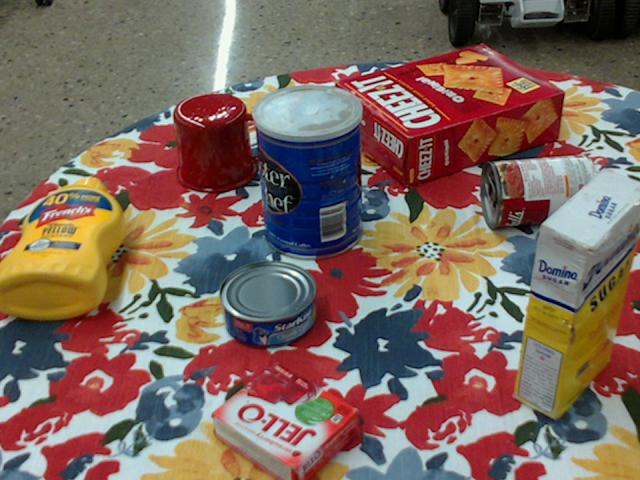cracker_box: (336, 46, 565, 188)
gelatin_box: (213, 365, 363, 479)
master_chef_can: (253, 83, 363, 260)
mug: (173, 93, 277, 193)
mustard_bottle: (0, 178, 125, 319)
sugar_box: (515, 167, 639, 420)
tomato_soup_can: (481, 153, 600, 228)
tuna_fish_can: (219, 261, 316, 349)
